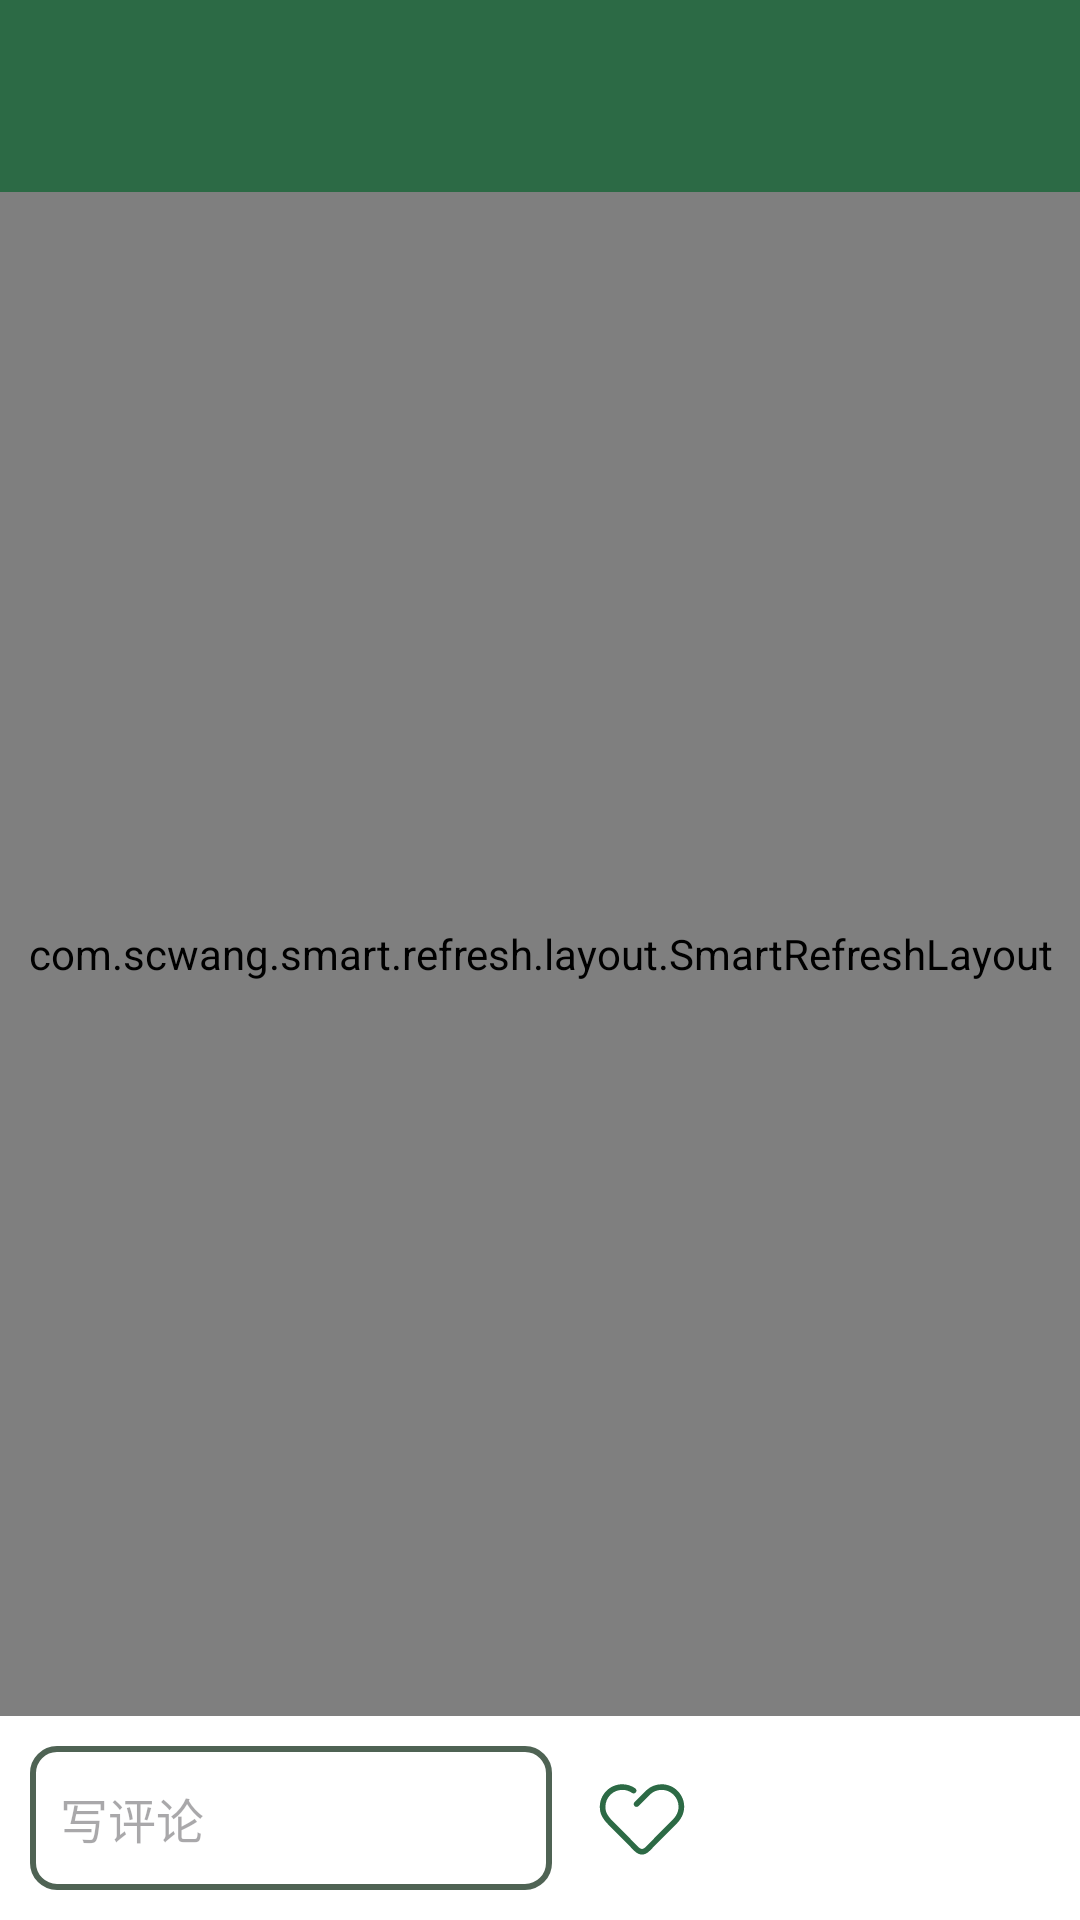

Named icons in this screenshot (1080 × 1920) and their centers, (x=x, y=y):
like: (x=642, y=1819)
